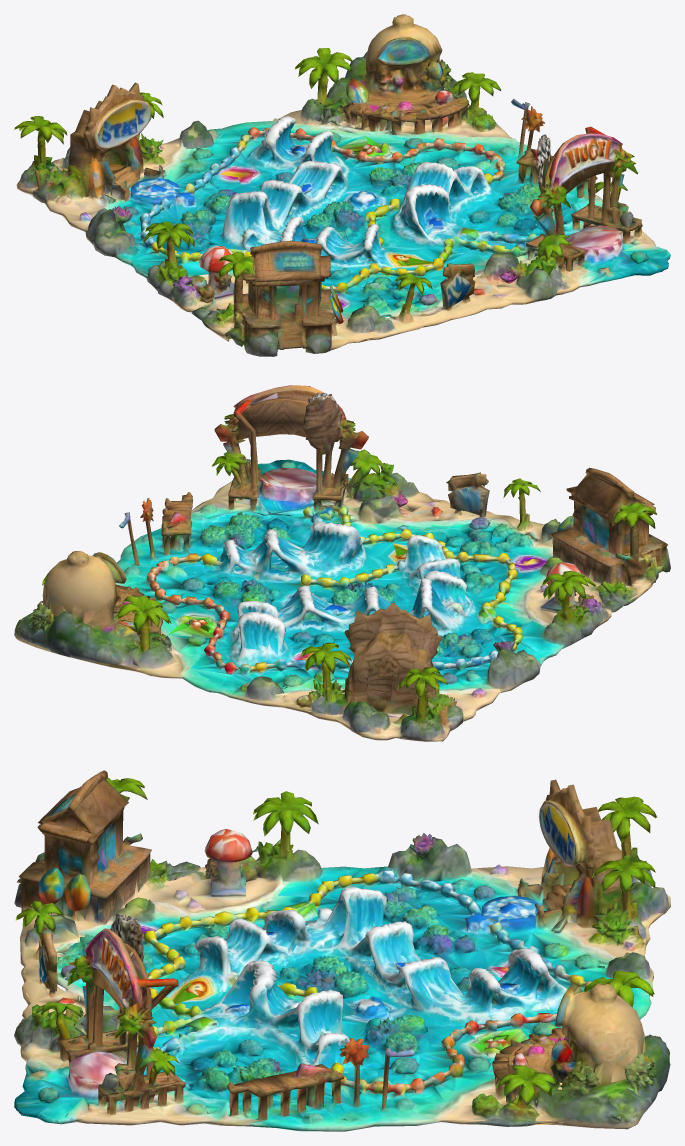
File: surf-break.glb
3 renders of one model, top to bottom at view 1: azimuth 30°, elevation 25°; view 2: azimuth 150°, elevation 25°; view 3: azimuth 270°, elevation 25°, orthographic. The views are drawn at different scales.
Parts seen in each view (by area): view 1: Mesh_0; view 2: Mesh_0; view 3: Mesh_0.
Boxes of the visible parts, x1,y1,x2,y2 form: Mesh_0: (14,14,670,356); Mesh_0: (14,385,670,741); Mesh_0: (14,770,670,1131).
Size of the model in its own units: 1.86 by 0.4808 by 1.9.
1 material, 1 textured.
